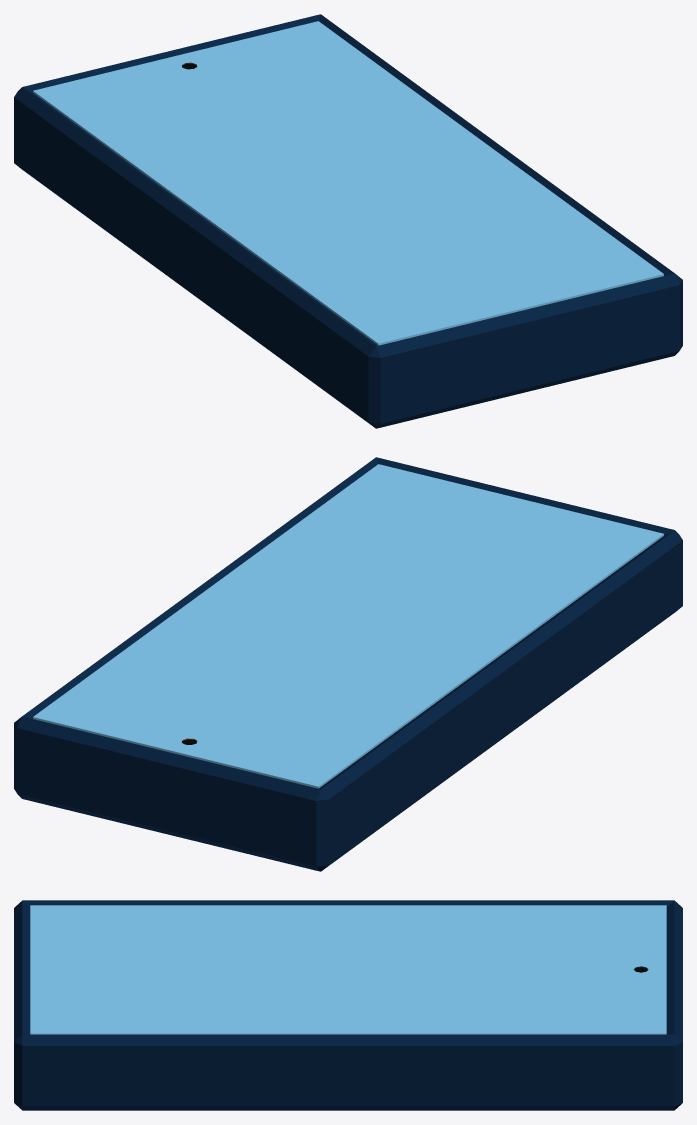
File: Phone.fbx
The picture shows the model from 3 angles, top to bottom: view 1: azimuth 30°, elevation 25°; view 2: azimuth 150°, elevation 25°; view 3: azimuth 270°, elevation 25°; orthographic projection. The views are drawn at different scales.
Visible parts, largest first — view 1: Display, Casing; view 2: Display, Casing; view 3: Display, Casing.
Part boxes in pixels (x1,y1,x2,y2): Display: (33, 21, 663, 345); Casing: (14, 14, 682, 428); Display: (33, 464, 663, 788); Casing: (14, 457, 682, 871); Display: (30, 905, 666, 1034); Casing: (14, 900, 682, 1110).
Bounding box in the file's own units: 8 × 16 × 2.
